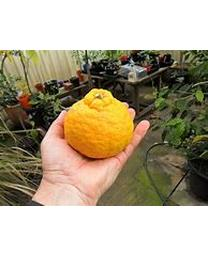lemon: (64, 88, 133, 159)
